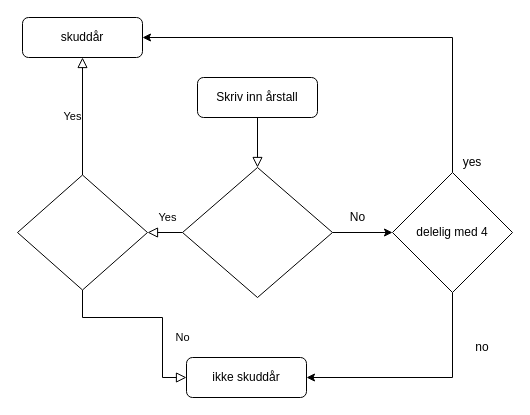
Image size: 530x415. Some labels were removed from this diagram. The centre of each missing label's shape, as x and y in pixels:
"delelig med 100" goes at point (257, 232).
"delelig med 400" goes at point (82, 232).
